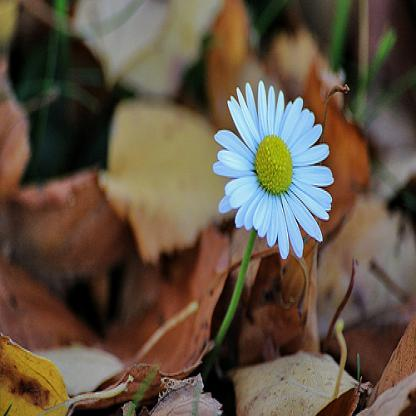ASTER: (187, 33, 367, 312)
